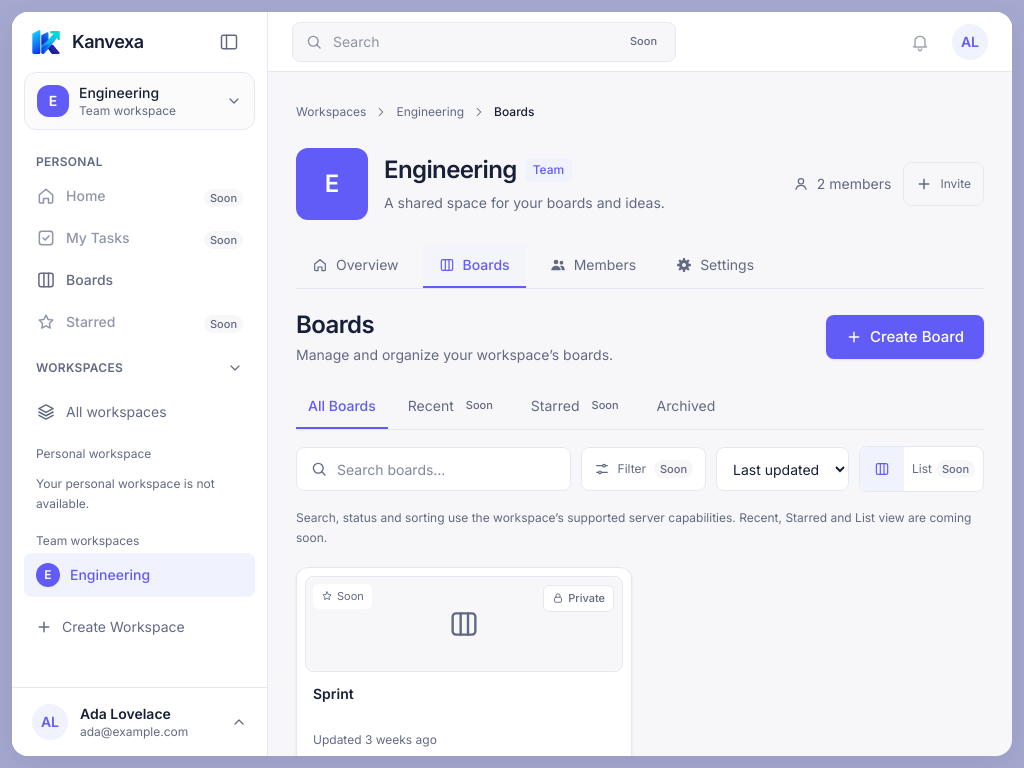
Scenario: Workspace routes using production HTTP adapters › creates a Board as a Workspace MEMBER and navigates to the existing Board route
Click the button "Create Board" at (905, 337), box [826, 315, 984, 359]
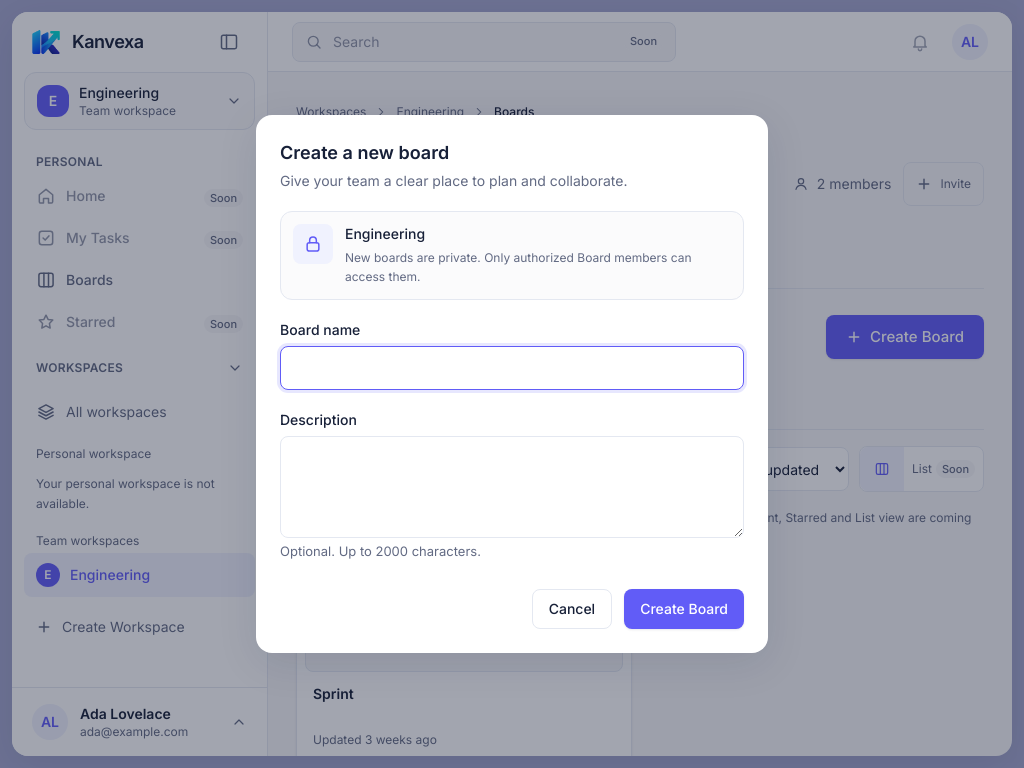
Type "Sprint" into the field labelled "Board name" at (512, 368), box [280, 346, 744, 390]
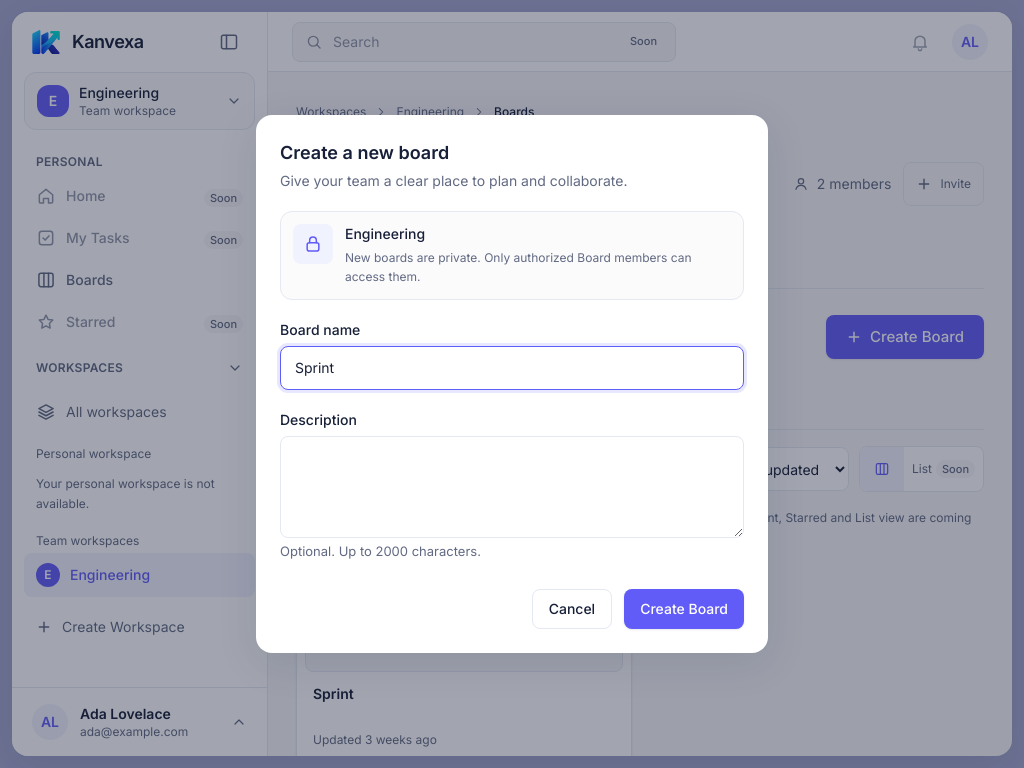
Submit the form, box [280, 320, 744, 629]
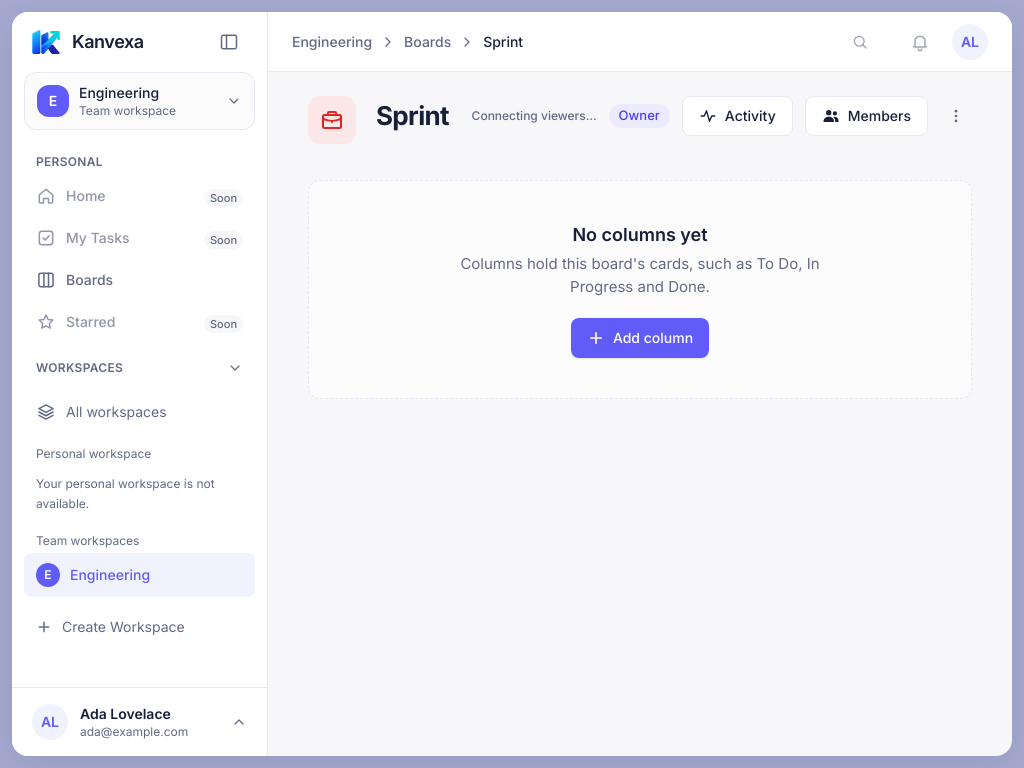
Now the heading "Sprint" is shown, box [376, 100, 449, 132]
